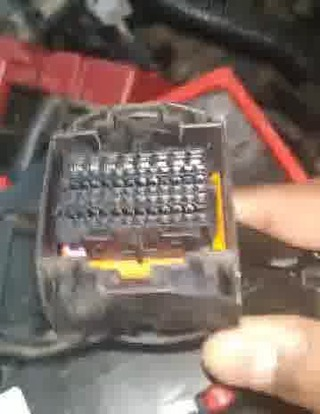connector: (35, 103, 244, 346)
